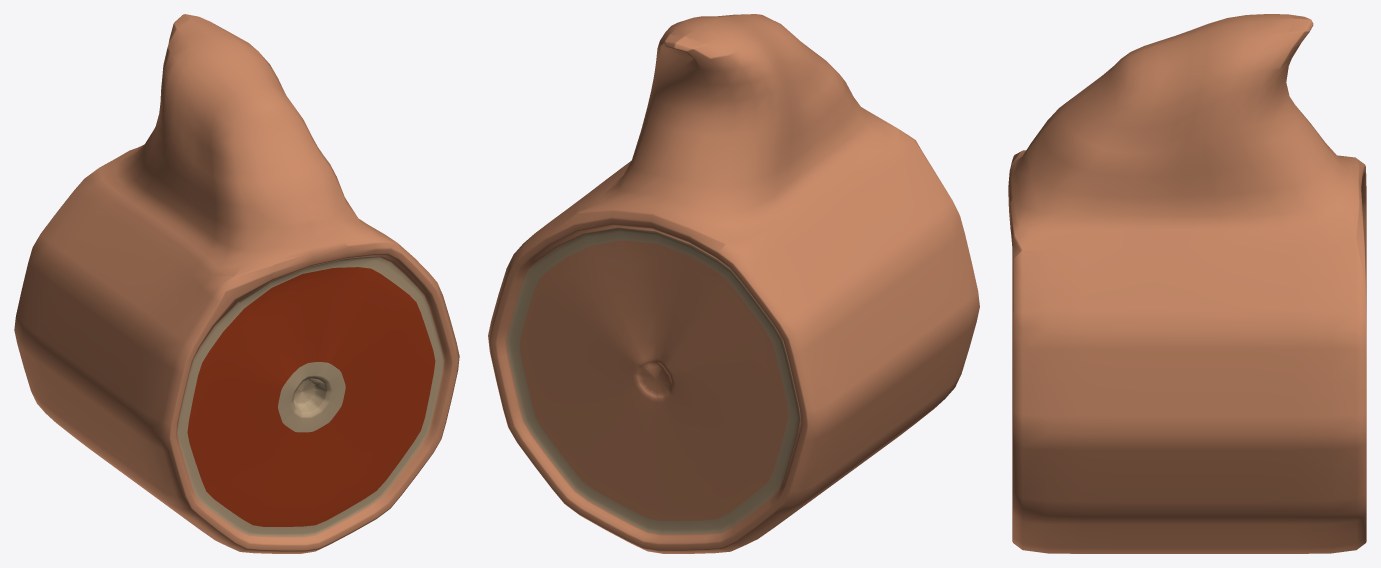
File: SharkMeat.fbx
The picture shows the model from 3 angles, left to right: view 1: azimuth 30°, elevation 25°; view 2: azimuth 150°, elevation 25°; view 3: azimuth 270°, elevation 25°; orthographic projection. The views are drawn at different scales.
Parts seen in each view (by area): view 1: Cylinder; view 2: Cylinder; view 3: Cylinder.
Part boxes in pixels (x1,y1,x2,y2): Cylinder: [14, 14, 459, 553]; Cylinder: [488, 14, 979, 553]; Cylinder: [1008, 14, 1366, 553].
Bounding box in the file's own units: 22.14 × 31.2 × 19.6.
